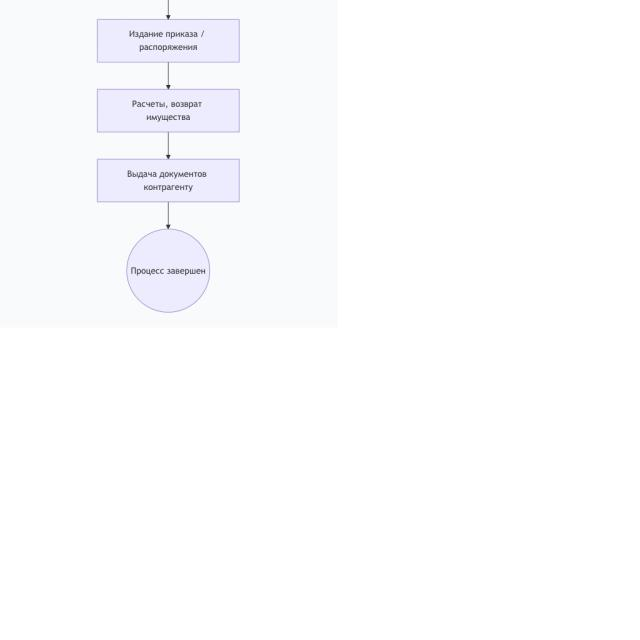arrow: (167, 132, 170, 158), (167, 63, 170, 89), (167, 202, 170, 228)
circle: (127, 229, 209, 312)
rectangle: (97, 89, 239, 132), (97, 159, 239, 202), (97, 19, 239, 62)
